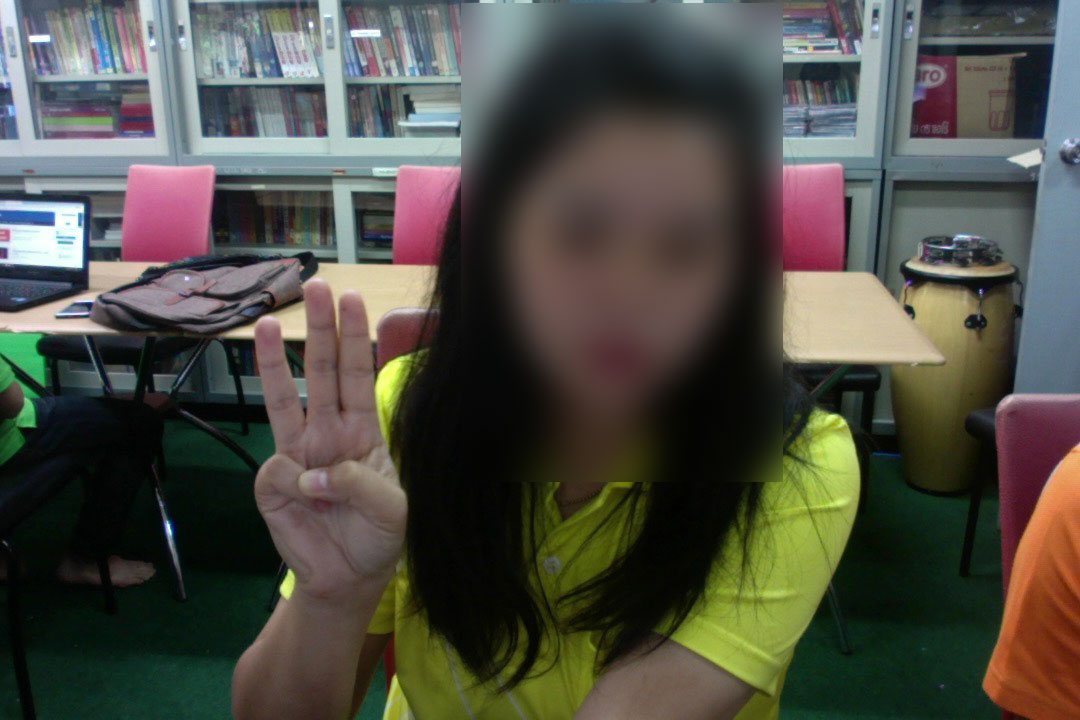wor: (235, 284, 426, 596)
